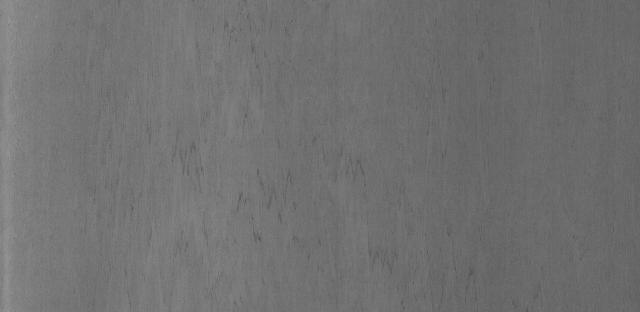silk_spot: (172, 26, 378, 283)
